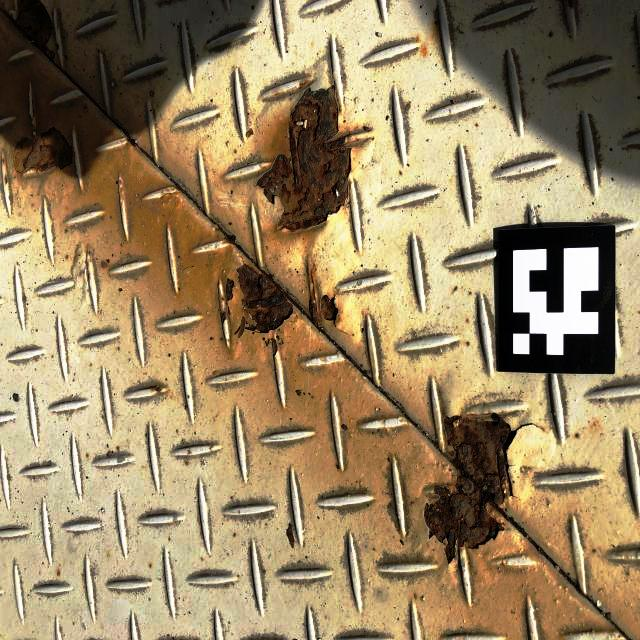Corrosion: (257, 85, 353, 230), (425, 415, 514, 563), (237, 263, 293, 332), (12, 126, 72, 173), (8, 0, 53, 58), (307, 256, 338, 328), (219, 277, 236, 323), (271, 338, 278, 360)
